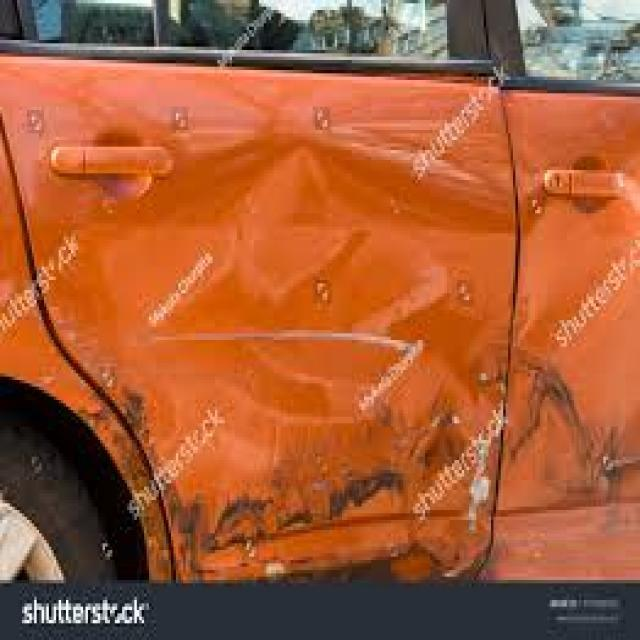damaged-door: (0, 0, 501, 573)
